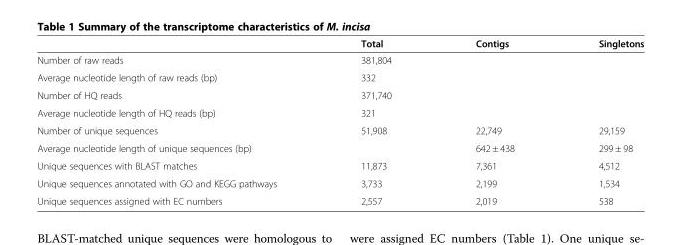table: (36, 37, 643, 206)
table column: (36, 37, 318, 206), (432, 37, 555, 206), (318, 37, 432, 206), (555, 37, 643, 206)
table column header: (36, 37, 643, 51)
table row: (36, 68, 643, 86), (36, 103, 643, 121), (36, 121, 643, 139), (36, 156, 643, 174), (36, 51, 643, 68), (36, 86, 643, 103), (36, 139, 643, 156), (36, 174, 643, 191), (36, 191, 643, 206), (36, 37, 643, 51)
